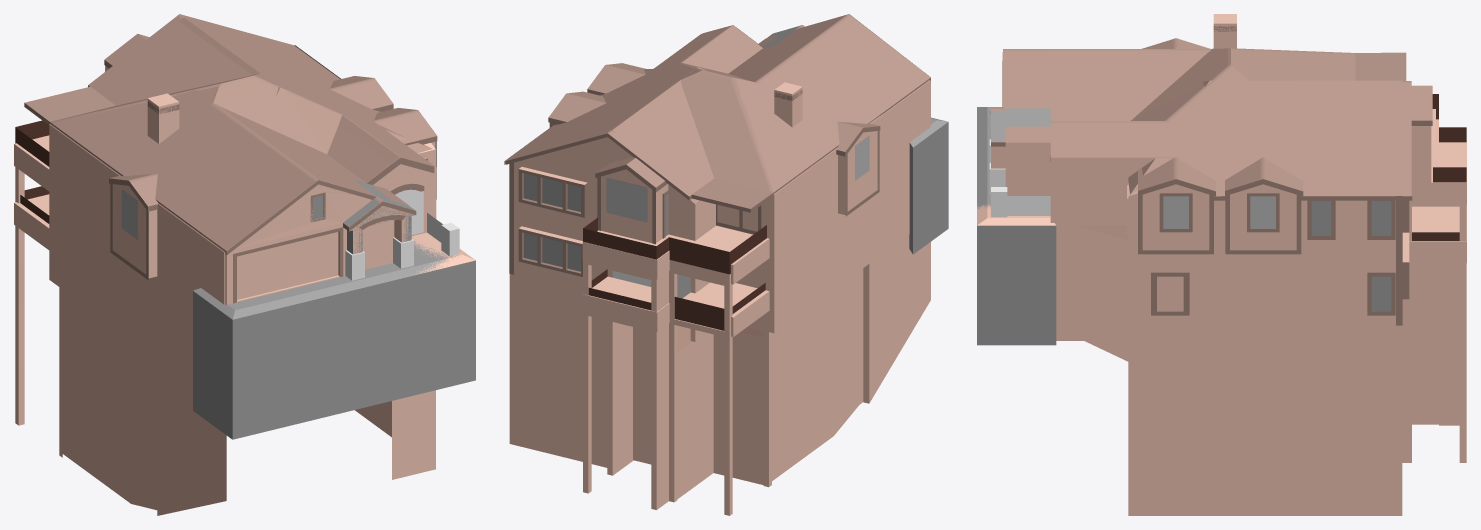
File: house2.dae
3 views of the same model, side by side, from view 1: azimuth 30°, elevation 25°; view 2: azimuth 150°, elevation 25°; view 3: azimuth 270°, elevation 25° (orthographic). The views are drawn at different scales.
Visible parts, largest first — view 1: house2_a500, house2_a100, house2_a250, Colmesh-1; view 2: house2_a500, house2_a100, house2_a250, Colmesh-1; view 3: house2_a500, house2_a100, house2_a250, Colmesh-1.
Part boxes in pixels (<box>): house2_a500: <box>15,14,475,515</box>; house2_a100: <box>14,17,436,384</box>; house2_a250: <box>71,15,419,302</box>; Colmesh-1: <box>193,179,459,319</box>; house2_a500: <box>504,14,948,515</box>; house2_a100: <box>509,25,930,341</box>; house2_a250: <box>562,58,930,319</box>; Colmesh-1: <box>763,26,947,147</box>; house2_a500: <box>977,26,1466,515</box>; house2_a100: <box>1005,55,1466,350</box>; house2_a250: <box>1059,14,1411,351</box>; Colmesh-1: <box>977,107,1050,209</box>.
Bounding box in the file's own units: 14.41 × 21.16 × 18.62.
